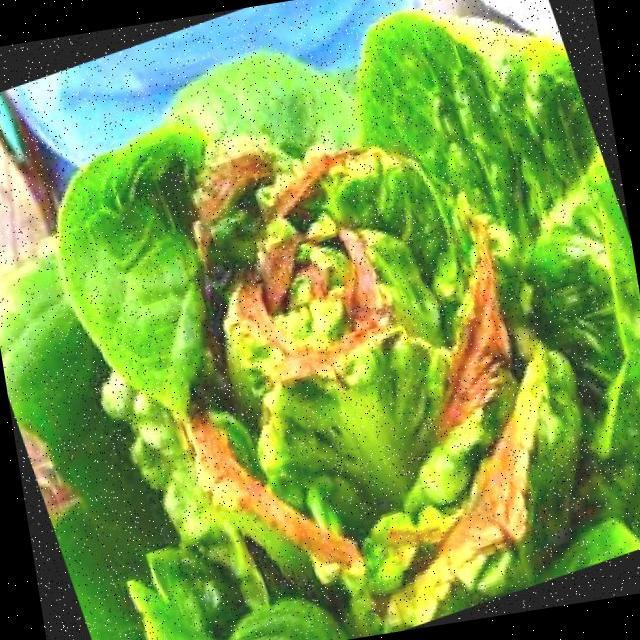Lettuce Mosaic Virus: (62, 50, 633, 640)
